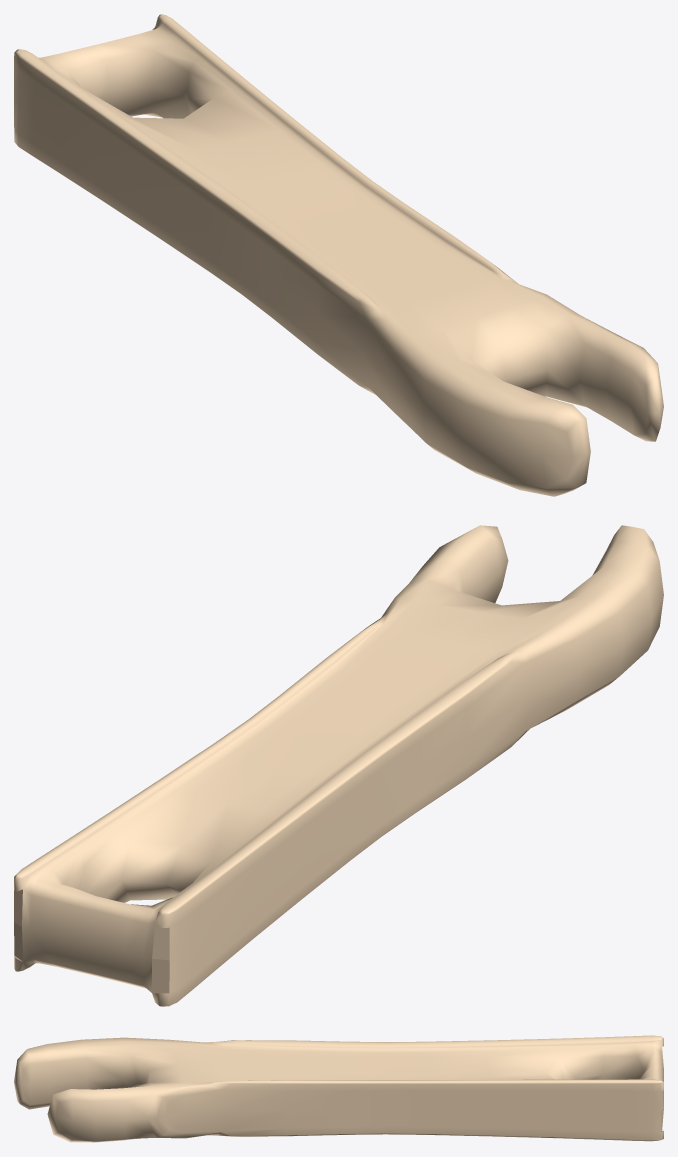
The model's file is Wrench.fbx.
3 renders of one model, top to bottom at view 1: azimuth 30°, elevation 25°; view 2: azimuth 150°, elevation 25°; view 3: azimuth 270°, elevation 25°, orthographic. The views are drawn at different scales.
Parts seen in each view (by area): view 1: pCube1; view 2: pCube1; view 3: pCube1.
Boxes of the visible parts, box(x1,y1,x2,y2) form: pCube1: box(14, 14, 663, 496); pCube1: box(14, 525, 663, 1006); pCube1: box(14, 1035, 663, 1142).
Size of the model in its own units: 2.19 by 0.9693 by 9.45.
